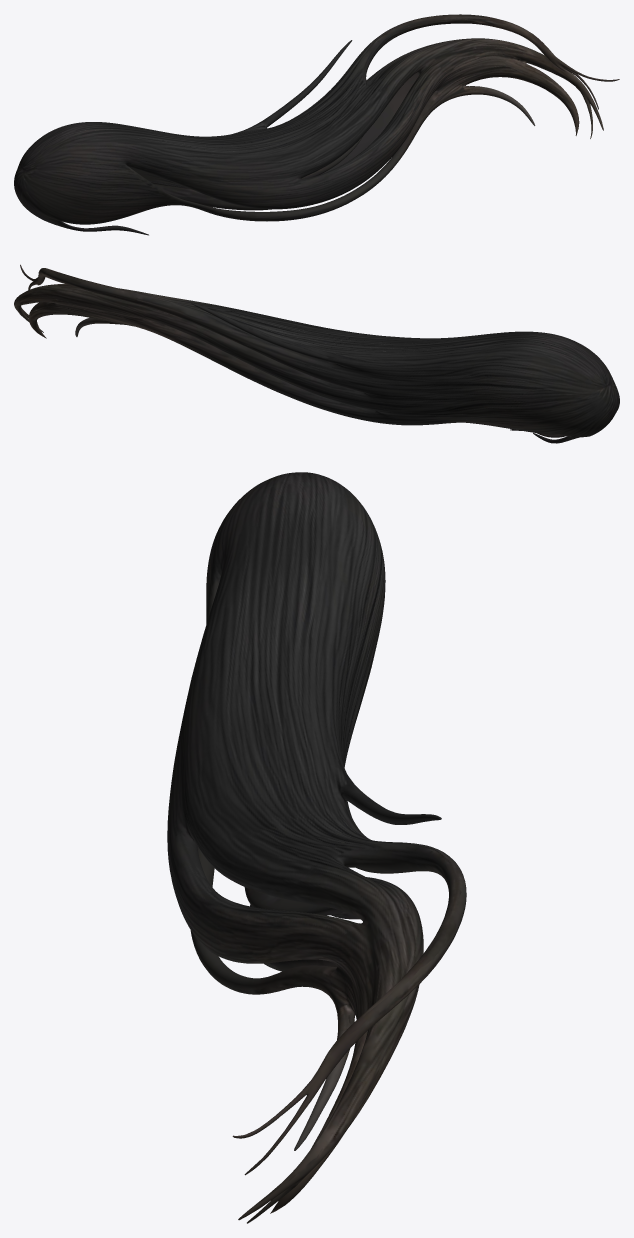
File: hair.glb
3 views of the same model, one above another, from view 1: azimuth 30°, elevation 25°; view 2: azimuth 150°, elevation 25°; view 3: azimuth 270°, elevation 25° (orthographic). The views are drawn at different scales.
Visible parts, largest first — view 1: node_0; view 2: node_0; view 3: node_0.
Boxes of the visible parts, x1,y1,x2,y2 form: node_0: (14, 14, 619, 235); node_0: (14, 264, 619, 443); node_0: (167, 472, 466, 1223).
Size of the model in its own units: 1.19 by 0.2416 by 0.2631.
Materials: 1 (1 with a texture image).
